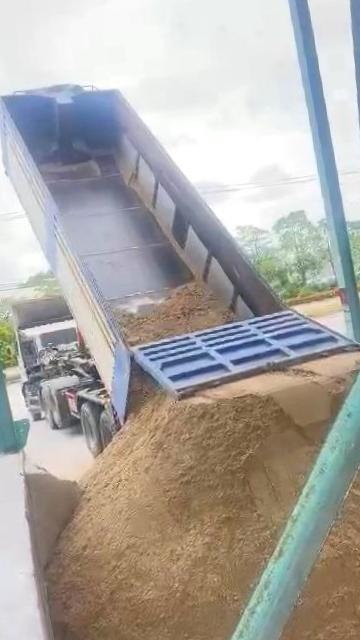sand: (48, 353, 360, 640), (272, 435, 360, 640), (115, 282, 234, 345), (24, 466, 80, 570)
